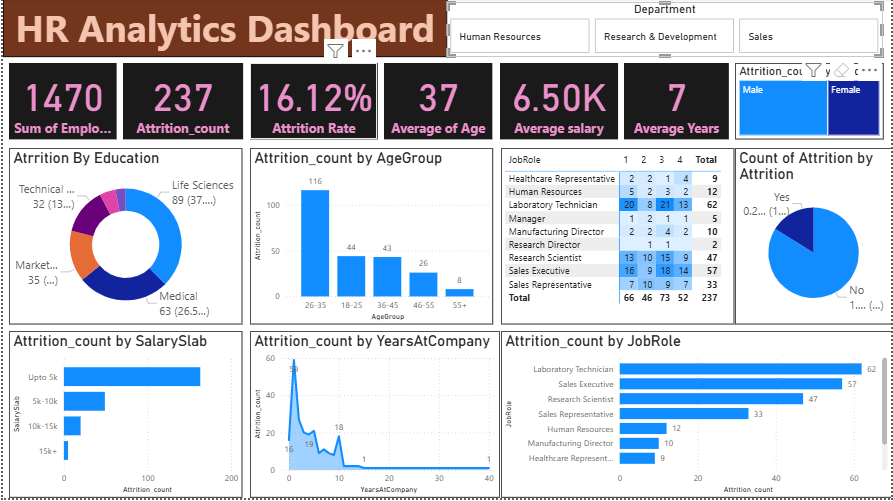

The page's visual inventory and layout, read from the dashboard file:
{"tool":"powerbi","page":{"name":"Dashboard1","canvas":[1280,720],"ordinal":0},"visuals":[{"type":"card","fields":{"Values":["Sum(HR_Analytics.EmployeeCount)"]},"box":[8.8,93.8,155,110],"z":0},{"type":"textbox","box":[0,0,640,85],"z":1000},{"type":"card","fields":{"Values":["HR_Analytics.Attrition_count"]},"box":[172.5,93.8,172.5,110],"z":2000},{"type":"card","fields":{"Values":["HR_Analytics.Attrition Rate"]},"box":[355,93.8,183.8,110],"z":3000},{"type":"card","fields":{"Values":["Avg(HR_Analytics.Age)"]},"box":[548.8,93.8,156.2,110],"z":4000},{"type":"card","fields":{"Values":["Avg(HR_Analytics.MonthlyIncome)"]},"box":[715,93.8,170,110],"z":5000},{"type":"card","fields":{"Values":["Avg(HR_Analytics.YearsAtCompany)"]},"box":[893.8,93.8,151.2,110],"z":6000},{"type":"treemap","fields":{"Group":["HR_Analytics.Gender"],"Values":["HR_Analytics.Attrition_count"]},"box":[1053.8,93.8,213.8,110],"z":7000},{"type":"donutChart","title":"Atrrition By Education","fields":{"Y":["HR_Analytics.Attrition_count"],"Category":["HR_Analytics.EducationField"]},"box":[8.8,216.2,336.2,253.8],"z":8000},{"type":"clusteredColumnChart","fields":{"Y":["HR_Analytics.Attrition_count"],"Category":["HR_Analytics.AgeGroup"]},"box":[355,216.2,350,253.8],"z":9000},{"type":"pivotTable","fields":{"Rows":["HR_Analytics.JobRole"],"Columns":["HR_Analytics.JobSatisfaction"],"Values":["HR_Analytics.Attrition_count"]},"box":[717.5,216.2,336.2,253.8],"z":10000},{"type":"pieChart","fields":{"Category":["HR_Analytics.Attrition"],"Y":["CountNonNull(HR_Analytics.Attrition)"]},"box":[1053.8,216.2,226.2,253.8],"z":11000},{"type":"barChart","fields":{"Category":["HR_Analytics.SalarySlab"],"Y":["HR_Analytics.Attrition_count"]},"box":[9,480,336,240],"z":12000},{"type":"areaChart","fields":{"Y":["HR_Analytics.Attrition_count"],"Category":["HR_Analytics.YearsAtCompany"]},"box":[355,480,360,240],"z":13000},{"type":"barChart","fields":{"Category":["HR_Analytics.JobRole"],"Y":["HR_Analytics.Attrition_count"]},"box":[717.5,480,562.5,240],"z":14000},{"type":"advancedSlicerVisual","fields":{"Values":["HR_Analytics.Department"]},"box":[640,6.2,627.5,78.8],"z":15000}]}

Visuals, with their boxes in screenshot pixels (x1, y1, x2, y2), scaled from the page's 1280x720 canvas onto the 893x501 screenshot:
card - Sum(HR_Analytics.EmployeeCount): (6, 65, 114, 142)
textbox: (0, 0, 446, 59)
card - HR_Analytics.Attrition_count: (120, 65, 241, 142)
card - HR_Analytics.Attrition Rate: (248, 65, 376, 142)
card - Avg(HR_Analytics.Age): (383, 65, 492, 142)
card - Avg(HR_Analytics.MonthlyIncome): (499, 65, 617, 142)
card - Avg(HR_Analytics.YearsAtCompany): (624, 65, 729, 142)
treemap - HR_Analytics.Gender x HR_Analytics.Attrition_count: (735, 65, 884, 142)
"Atrrition By Education" donutChart: (6, 150, 241, 327)
clusteredColumnChart - HR_Analytics.Attrition_count x HR_Analytics.AgeGroup: (248, 150, 492, 327)
pivotTable - HR_Analytics.JobRole x HR_Analytics.JobSatisfaction: (501, 150, 735, 327)
pieChart - HR_Analytics.Attrition x CountNonNull(HR_Analytics.Attrition): (735, 150, 892, 327)
barChart - HR_Analytics.SalarySlab x HR_Analytics.Attrition_count: (6, 334, 241, 500)
areaChart - HR_Analytics.Attrition_count x HR_Analytics.YearsAtCompany: (248, 334, 499, 500)
barChart - HR_Analytics.JobRole x HR_Analytics.Attrition_count: (501, 334, 892, 500)
advancedSlicerVisual - HR_Analytics.Department: (446, 4, 884, 59)
